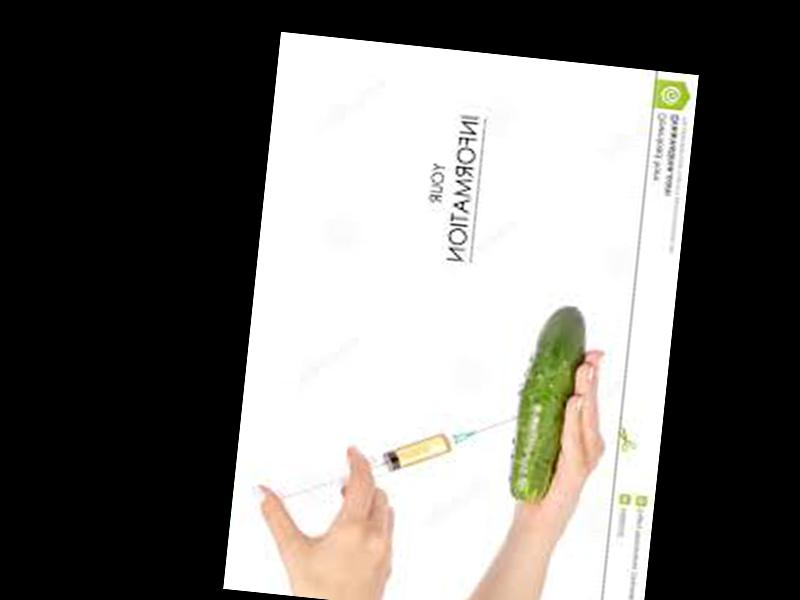Cucumber: (508, 302, 588, 506)
